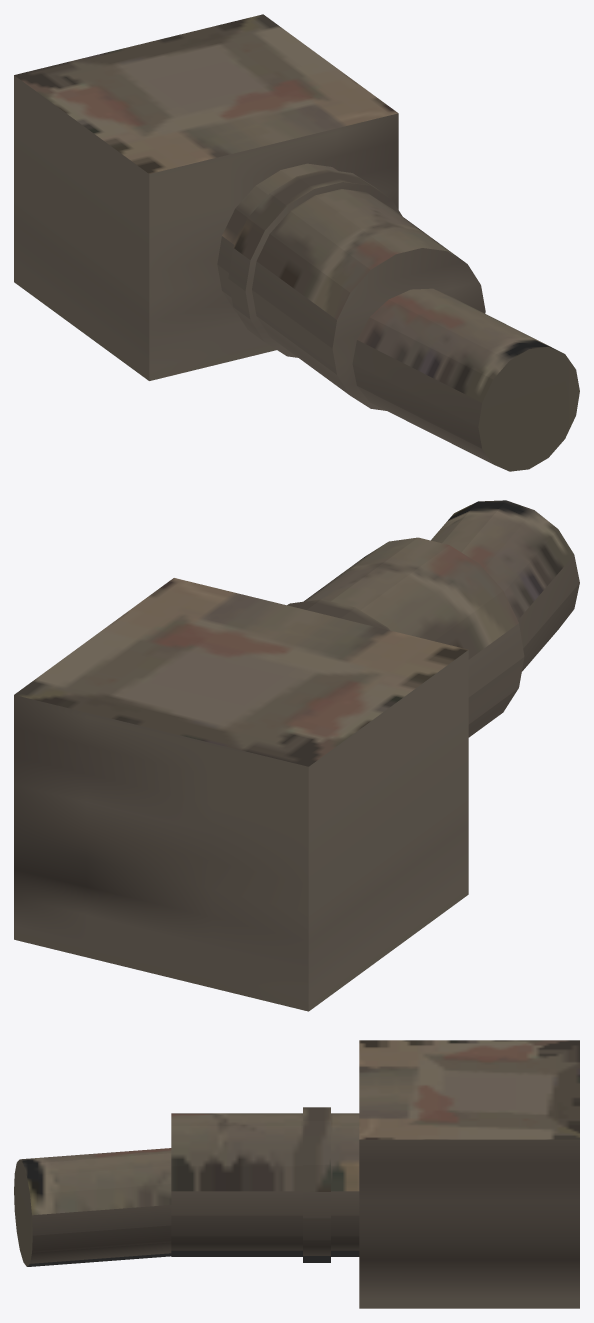
Rendered from Building_AncientMegaCannonBarrel.glb.
3 renders of one model, top to bottom at view 1: azimuth 30°, elevation 25°; view 2: azimuth 150°, elevation 25°; view 3: azimuth 270°, elevation 25°, orthographic. The views are drawn at different scales.
Parts seen in each view (by area): view 1: AncientMegaCannonBarrel; view 2: AncientMegaCannonBarrel; view 3: AncientMegaCannonBarrel.
Boxes of the visible parts, bbox=[...] form: AncientMegaCannonBarrel: bbox=[14, 14, 579, 471]; AncientMegaCannonBarrel: bbox=[14, 500, 579, 1011]; AncientMegaCannonBarrel: bbox=[14, 1040, 579, 1308].
Size of the model in its own units: 0.7812 by 0.62 by 1.88.
Materials: 1 (1 with a texture image).
